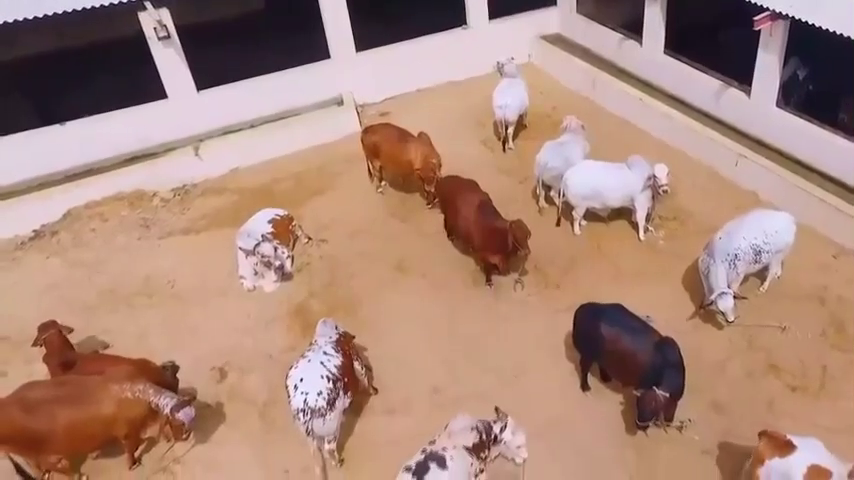bo: (4, 373, 208, 477), (563, 296, 684, 435), (275, 311, 374, 470), (426, 165, 531, 290), (696, 212, 804, 325), (392, 403, 533, 479), (27, 312, 168, 383), (559, 150, 670, 240), (348, 116, 443, 205), (227, 201, 310, 290), (733, 422, 851, 479), (529, 107, 591, 202), (477, 45, 531, 146)
